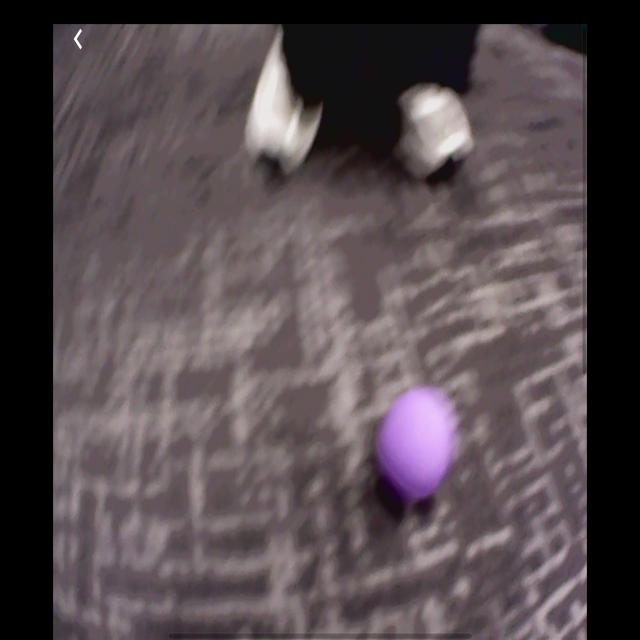ball: (379, 388, 455, 499)
